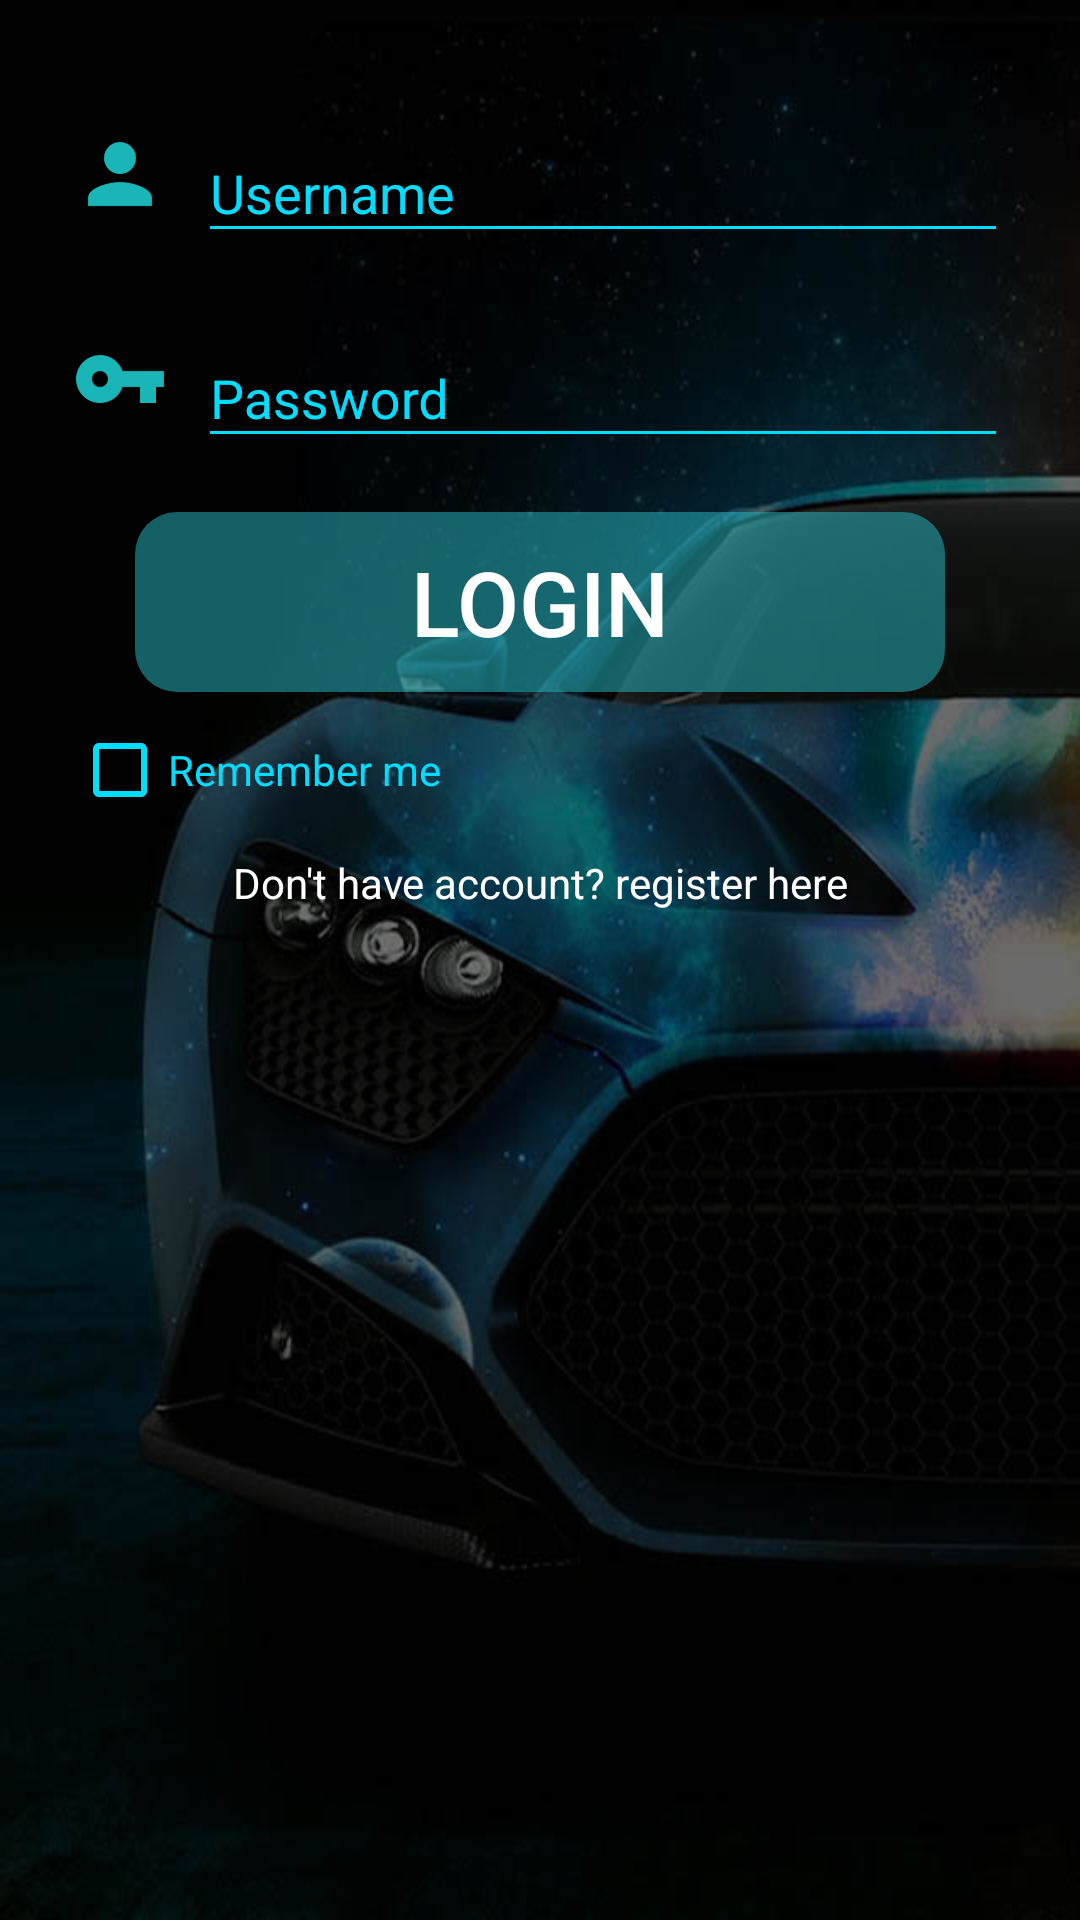

Icons on this 1080px x 1920px Android screen, each with its box as {"x1": x1, "y1": y1, "x2": x2, "y2": y2}:
user login: {"x1": 88, "y1": 142, "x2": 152, "y2": 206}
